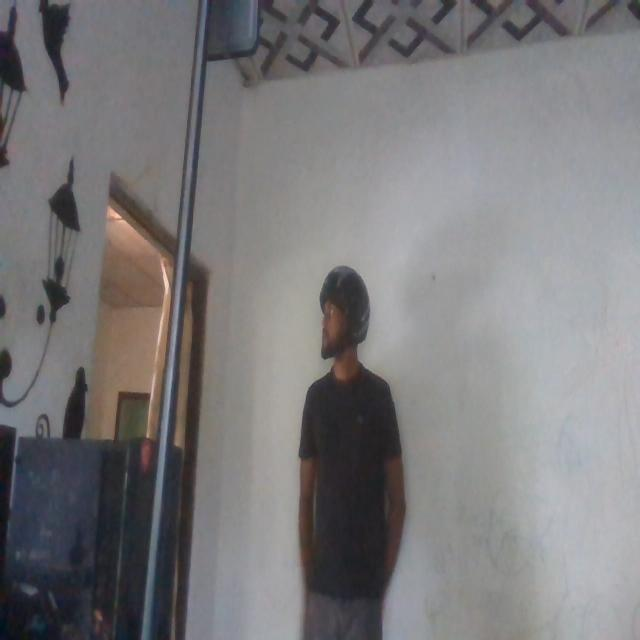Helmet_Wearer: (311, 264, 373, 370)
Person: (289, 254, 411, 640)
